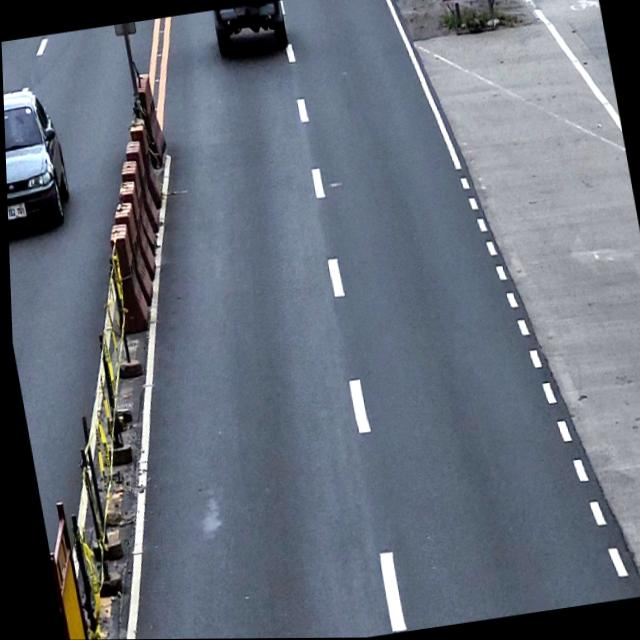Car: (2, 83, 74, 236), (212, 1, 290, 57)
License-Plate: (6, 201, 25, 221)
